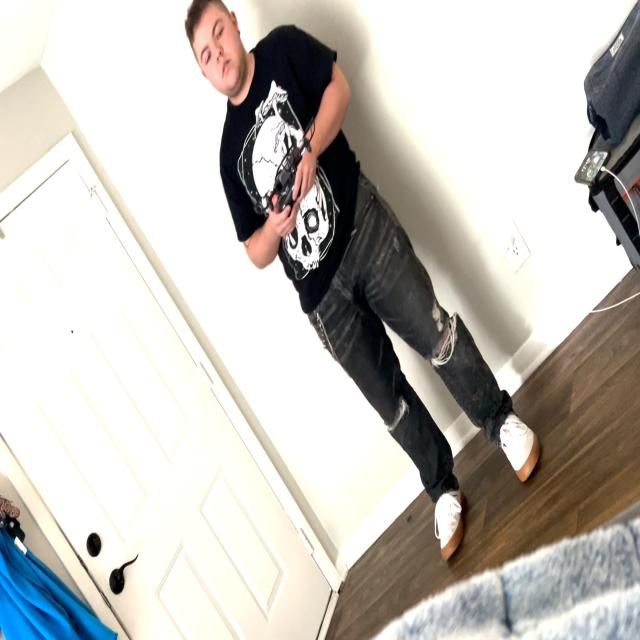drone: (252, 101, 327, 252)
